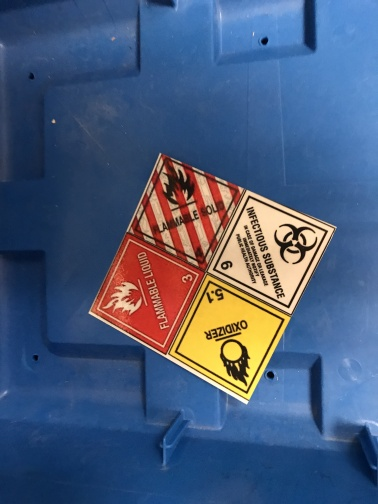FlammableLiquid: (90, 234, 205, 354)
FlammableSolid: (127, 151, 244, 272)
InfectiousSubstance: (207, 189, 334, 314)
Oxidizer: (169, 273, 292, 399)
